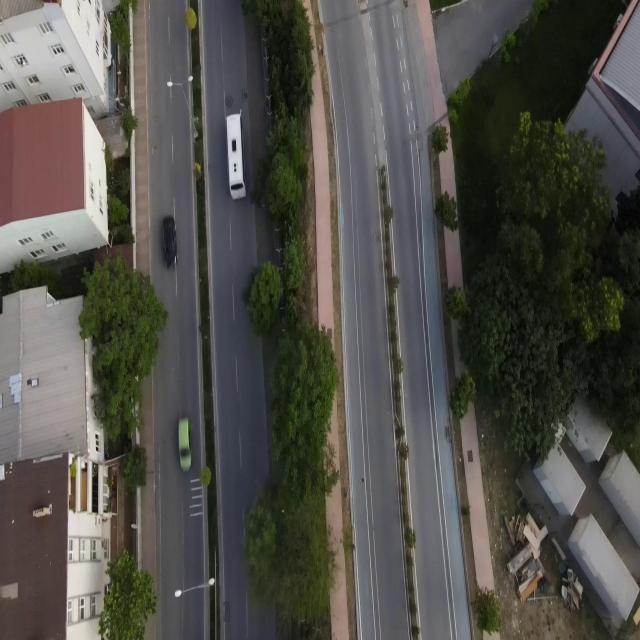p3rson: (110, 10, 113, 18)
